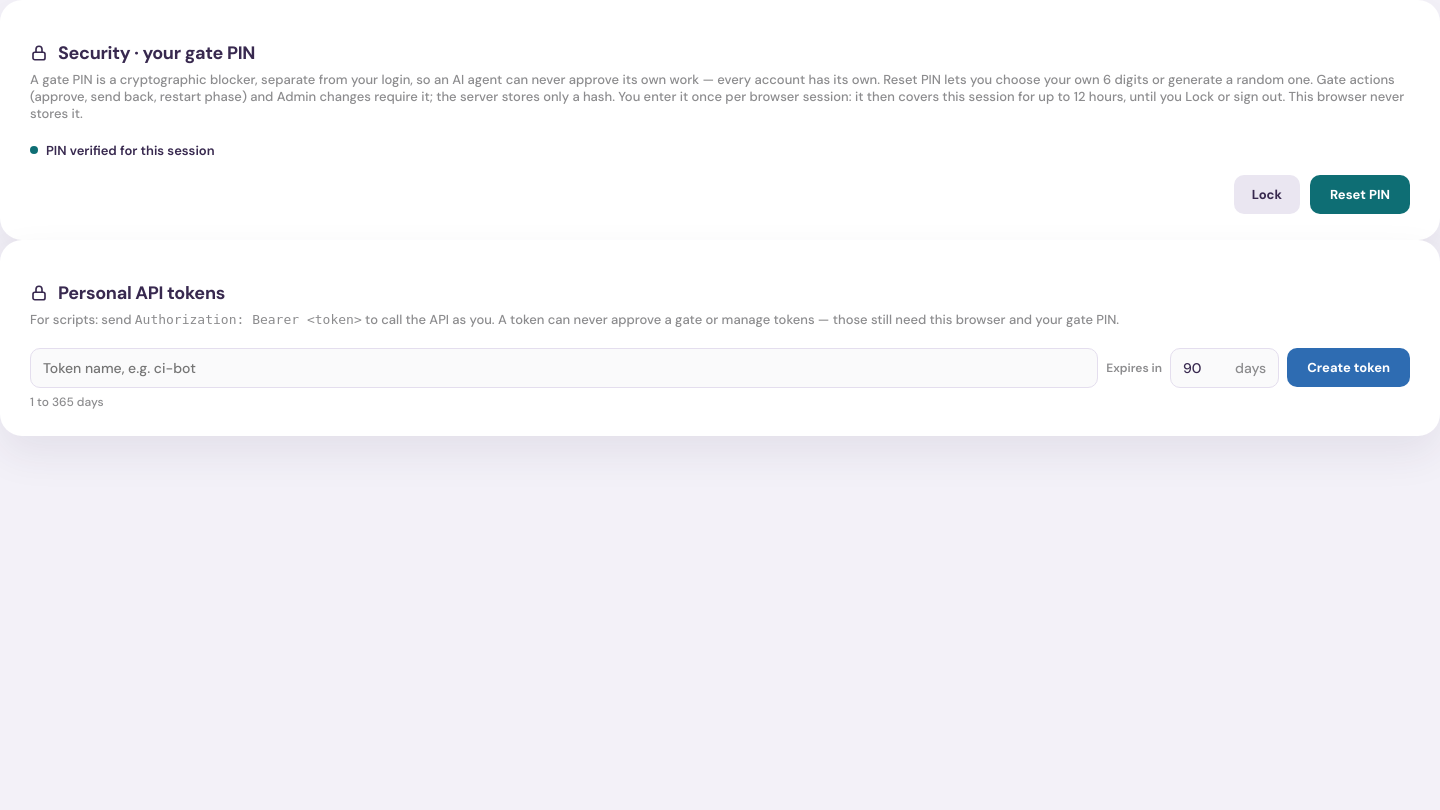
it: the panel button reads "Reset PIN", no "Regenerate my PIN" remains, and it opens the dialog
Click the button "Reset PIN": click(1360, 194) [1310,175,1410,214]
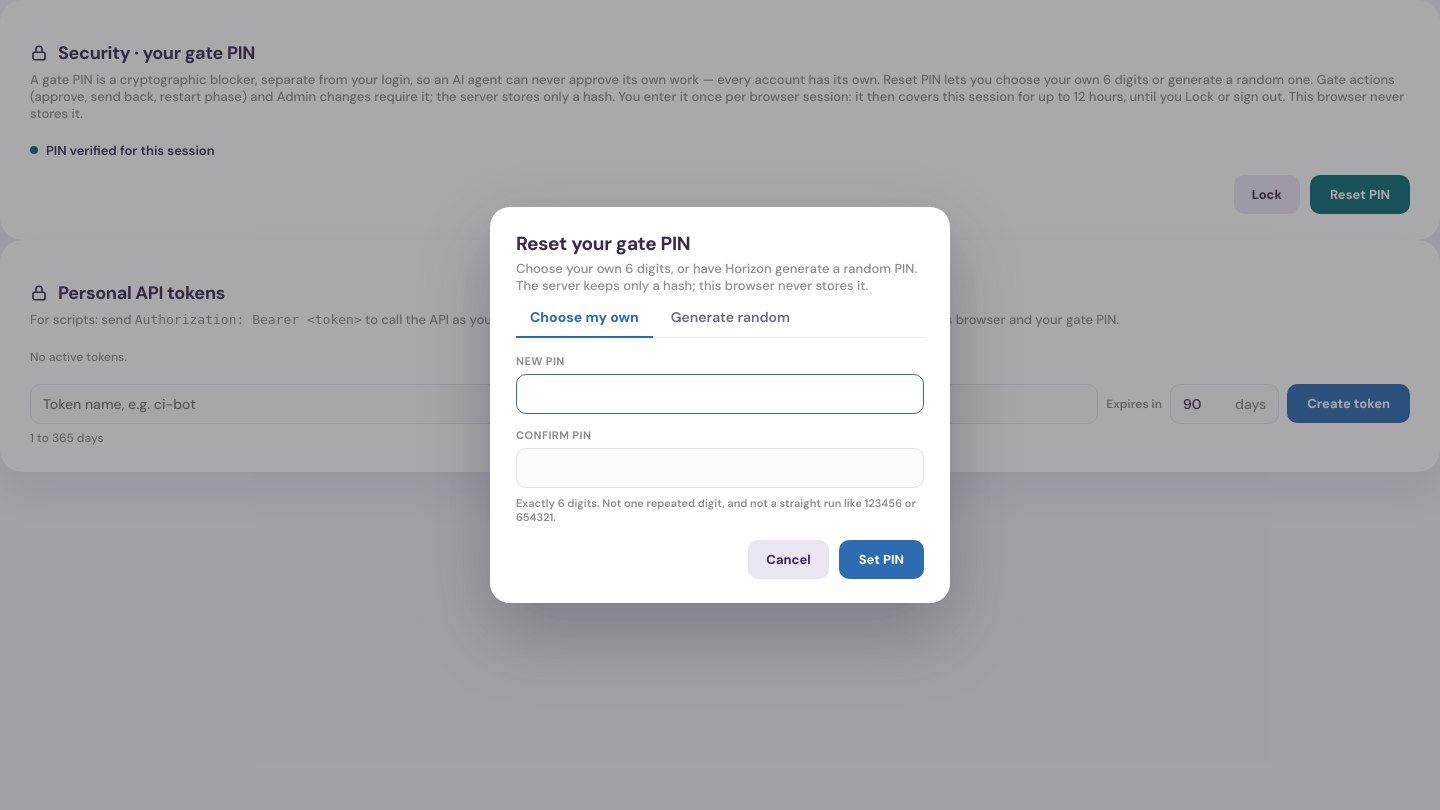
Now the tab "Generate random" is shown, box [657,298,804,338]
